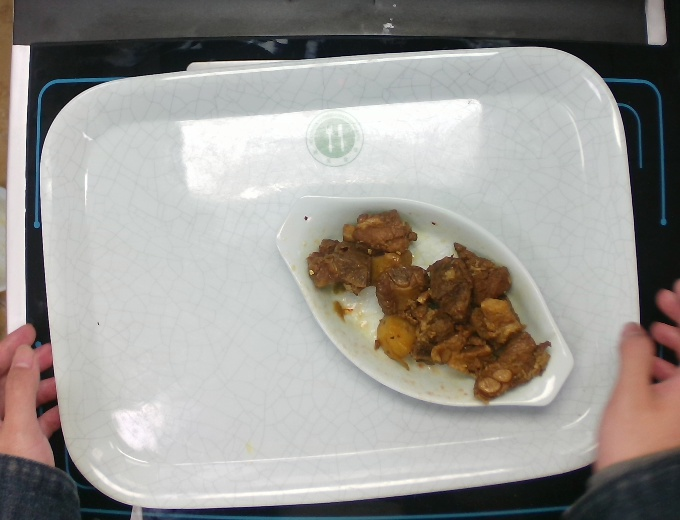JYsf-Yu_Pan: (266, 182, 581, 417)
